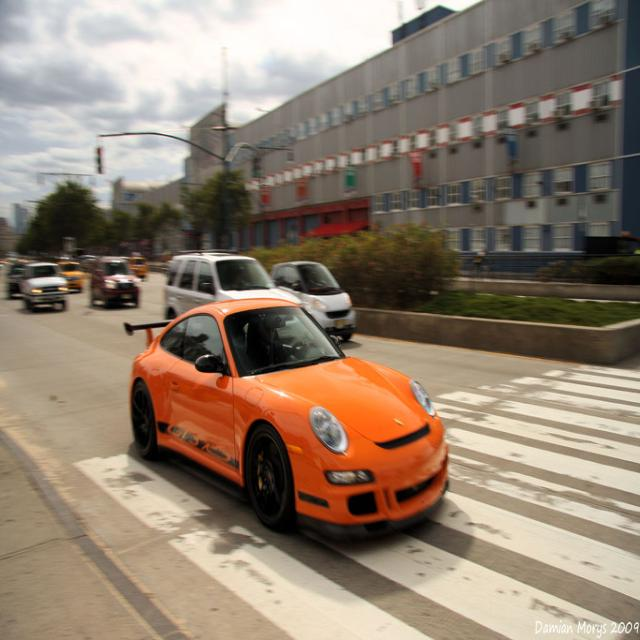car: (115, 274, 450, 539)
